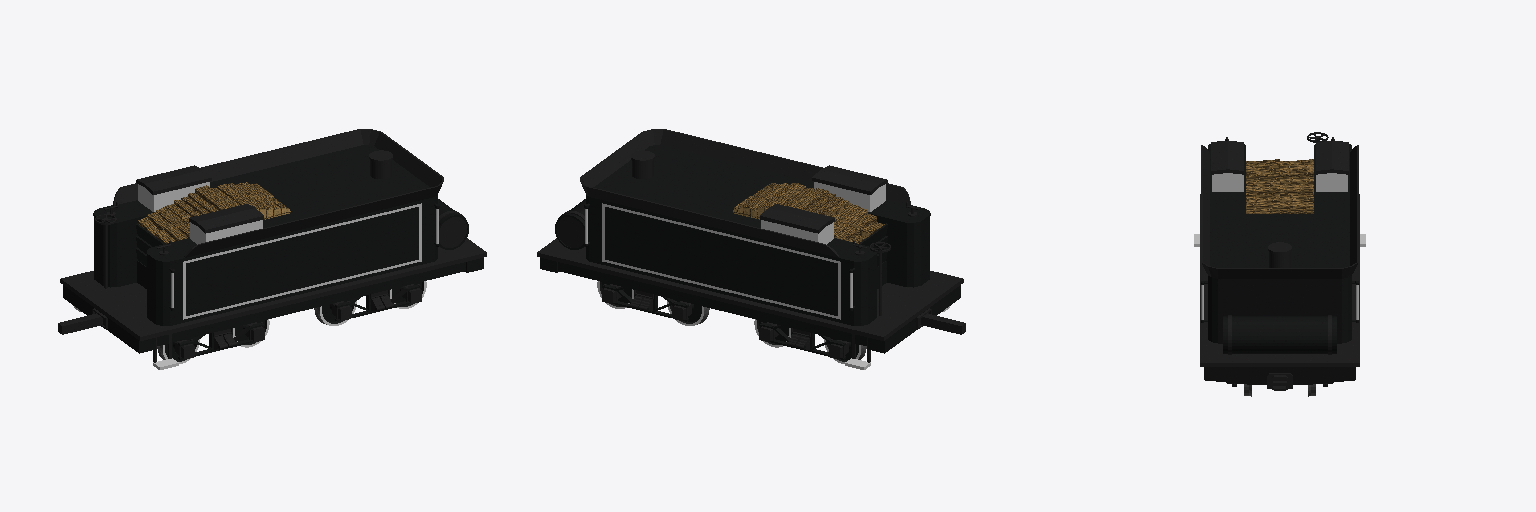
3 renders of one model, left to right at view 1: azimuth 30°, elevation 25°; view 2: azimuth 150°, elevation 25°; view 3: azimuth 270°, elevation 25°, orthographic.
Parts seen in each view (by area): view 1: SHELL_Cube.003, FRAME_Cube.004, WoodLoad_Cube.000, BOGEY_REAR_Cube.024, BOGEY_FRONT_Cube.002, COUPLER_FRONT_Cube.005; view 2: SHELL_Cube.003, FRAME_Cube.004, WoodLoad_Cube.000, BOGEY_REAR_Cube.024, BOGEY_FRONT_Cube.002, COUPLER_FRONT_Cube.005; view 3: SHELL_Cube.003, FRAME_Cube.004, WoodLoad_Cube.000.
Boxes of the visible parts, x1=… form: SHELL_Cube.003: x1=93, y1=129, x2=468, y2=325; FRAME_Cube.004: x1=60, y1=238, x2=486, y2=369; WoodLoad_Cube.000: x1=138, y1=182, x2=290, y2=243; BOGEY_REAR_Cube.024: x1=332, y1=284, x2=421, y2=321; BOGEY_FRONT_Cube.002: x1=175, y1=322, x2=264, y2=359; COUPLER_FRONT_Cube.005: x1=58, y1=313, x2=102, y2=334; SHELL_Cube.003: x1=555, y1=129, x2=930, y2=325; FRAME_Cube.004: x1=537, y1=238, x2=963, y2=369; WoodLoad_Cube.000: x1=733, y1=183, x2=884, y2=243; BOGEY_REAR_Cube.024: x1=602, y1=284, x2=691, y2=321; BOGEY_FRONT_Cube.002: x1=759, y1=322, x2=848, y2=359; COUPLER_FRONT_Cube.005: x1=921, y1=313, x2=965, y2=334; SHELL_Cube.003: x1=1201, y1=137, x2=1358, y2=354; FRAME_Cube.004: x1=1194, y1=194, x2=1365, y2=390; WoodLoad_Cube.000: x1=1246, y1=159, x2=1313, y2=213.
Bounding box in the file's own units: 6.74 × 2.42 × 2.56.
10 materials, 8 textured.